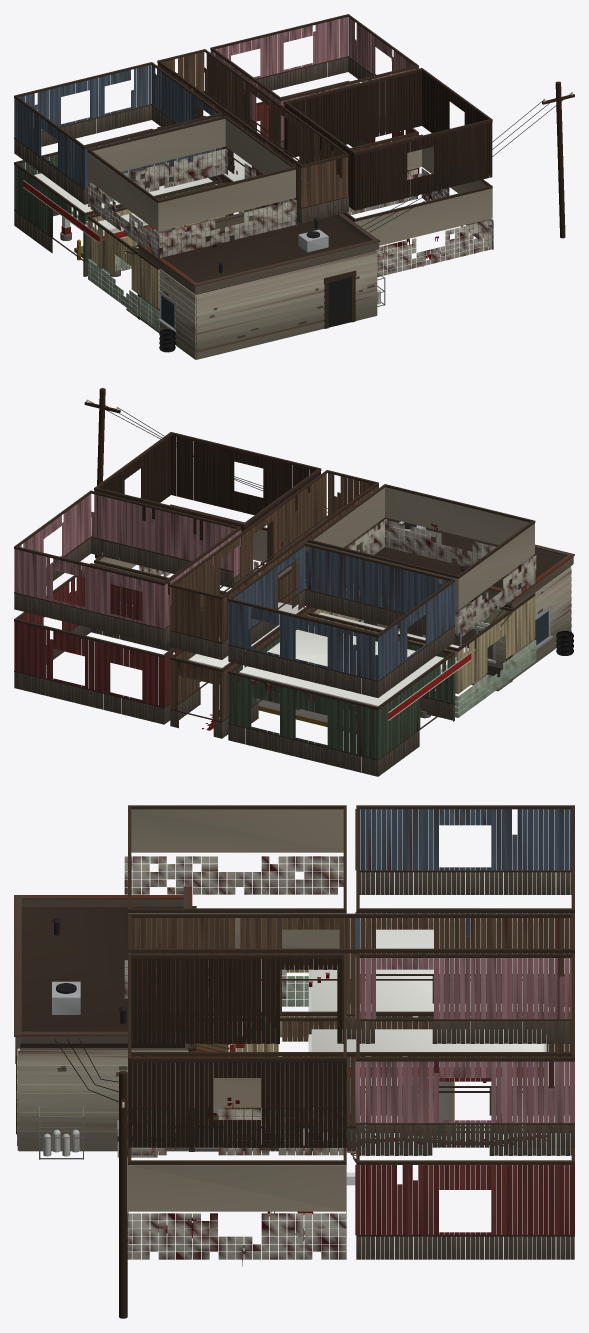
The model's file is CannibalFamilyMeshes2.glb.
The picture shows the model from 3 angles, top to bottom: view 1: azimuth 30°, elevation 25°; view 2: azimuth 150°, elevation 25°; view 3: azimuth 270°, elevation 25°; orthographic projection. The views are drawn at different scales.
Visible parts, largest first — view 1: FarmhouseInteriorUpper_panel_dark, GasStationExterior_clapboard, FarmhouseInteriorUpper_plaster_raw, FarmhouseInteriorUpper_trim, FarmhouseInteriorUpper_tile, FarmhouseInteriorUpper_wood_old, GasStationExterior_roof_deck, FarmhouseInteriorUpper_paper_masterA, FarmhouseInteriorUpper_paper_masterB, FarmhouseInteriorUpper_paper_hallA, FarmhouseInteriorGround_plaster_raw, FarmhouseInteriorUpper_paper_hallB (+19 smaller); view 2: FarmhouseInteriorUpper_wood_old, FarmhouseInteriorUpper_trim, FarmhouseInteriorUpper_panel_dark, FarmhouseInteriorUpper_paper_masterA, FarmhouseInteriorUpper_plaster_raw, FarmhouseInteriorUpper_paper_masterB, FarmhouseInteriorGround_wood_old, FarmhouseInteriorUpper_paper_kidsA, FarmhouseInteriorUpper_paper_kidsB, FarmhouseInteriorGround_paper_livingA, FarmhouseInteriorUpper_paper_hallA, FarmhouseInteriorUpper_paper_hallB (+20 smaller); view 3: FarmhouseInteriorUpper_panel_dark, FarmhouseInteriorUpper_trim, FarmhouseInteriorUpper_wood_old, FarmhouseInteriorGround_plaster_raw, GasStationExterior_roof_deck, FarmhouseInteriorGround_tile, FarmhouseInteriorUpper_paper_kidsB, FarmhouseInteriorUpper_plaster_raw, FarmhouseInteriorUpper_paper_kidsA, GasStationExterior_paint_white, GasStationExterior_clapboard, FarmhouseInteriorGround_wood_old (+17 smaller).
Part boxes in pixels (x1=…): FarmhouseInteriorUpper_panel_dark: x1=284, y1=71, x2=492, y2=210; GasStationExterior_clapboard: x1=140, y1=250, x2=377, y2=359; FarmhouseInteriorUpper_plaster_raw: x1=87, y1=119, x2=295, y2=231; FarmhouseInteriorUpper_trim: x1=14, y1=14, x2=492, y2=208; FarmhouseInteriorUpper_tile: x1=88, y1=148, x2=296, y2=259; FarmhouseInteriorUpper_wood_old: x1=14, y1=57, x2=385, y2=223; GasStationExterior_roof_deck: x1=150, y1=214, x2=366, y2=282; FarmhouseInteriorUpper_paper_masterA: x1=14, y1=65, x2=221, y2=188; FarmhouseInteriorUpper_paper_masterB: x1=16, y1=66, x2=222, y2=188; FarmhouseInteriorUpper_paper_hallA: x1=157, y1=53, x2=348, y2=207; FarmhouseInteriorGround_plaster_raw: x1=301, y1=142, x2=492, y2=245; FarmhouseInteriorUpper_paper_hallB: x1=159, y1=52, x2=347, y2=206; FarmhouseInteriorUpper_wood_old: x1=14, y1=517, x2=454, y2=697; FarmhouseInteriorUpper_trim: x1=14, y1=432, x2=535, y2=681; FarmhouseInteriorUpper_panel_dark: x1=94, y1=435, x2=320, y2=561; FarmhouseInteriorUpper_paper_masterA: x1=228, y1=547, x2=454, y2=680; FarmhouseInteriorUpper_plaster_raw: x1=308, y1=487, x2=534, y2=609; FarmhouseInteriorUpper_paper_masterB: x1=232, y1=546, x2=455, y2=679; FarmhouseInteriorGround_wood_old: x1=14, y1=619, x2=454, y2=776; FarmhouseInteriorUpper_paper_kidsA: x1=14, y1=495, x2=240, y2=628; FarmhouseInteriorUpper_paper_kidsB: x1=18, y1=494, x2=241, y2=627; FarmhouseInteriorGround_paper_livingA: x1=228, y1=621, x2=454, y2=759; FarmhouseInteriorUpper_paper_hallA: x1=170, y1=474, x2=378, y2=642; FarmhouseInteriorUpper_paper_hallB: x1=171, y1=473, x2=376, y2=641; FarmhouseInteriorUpper_panel_dark: x1=128, y1=959, x2=346, y2=1147; FarmhouseInteriorUpper_trim: x1=128, y1=805, x2=574, y2=1124; FarmhouseInteriorUpper_wood_old: x1=347, y1=872, x2=574, y2=1147; FarmhouseInteriorGround_plaster_raw: x1=128, y1=1062, x2=346, y2=1211; GasStationExterior_roof_deck: x1=20, y1=907, x2=191, y2=1047; FarmhouseInteriorGround_tile: x1=127, y1=1109, x2=346, y2=1259; FarmhouseInteriorUpper_paper_kidsB: x1=355, y1=957, x2=569, y2=1123; FarmhouseInteriorUpper_plaster_raw: x1=128, y1=809, x2=346, y2=953; FarmhouseInteriorUpper_paper_kidsA: x1=360, y1=958, x2=574, y2=1123; GasStationExterior_paint_white: x1=43, y1=922, x2=546, y2=1157; GasStationExterior_clapboard: x1=17, y1=1048, x2=188, y2=1151; FarmhouseInteriorGround_wood_old: x1=158, y1=1004, x2=574, y2=1259.
Size of the model in its own units: 81.15 by 30.83 by 59.
